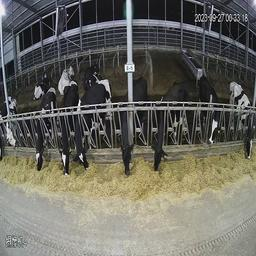cow: (73, 80, 114, 169), (154, 77, 187, 172), (120, 76, 148, 176), (228, 80, 253, 161), (35, 87, 57, 172), (59, 78, 77, 177), (198, 75, 219, 152), (5, 98, 19, 151), (82, 62, 105, 91), (56, 64, 77, 93), (33, 74, 50, 97)
